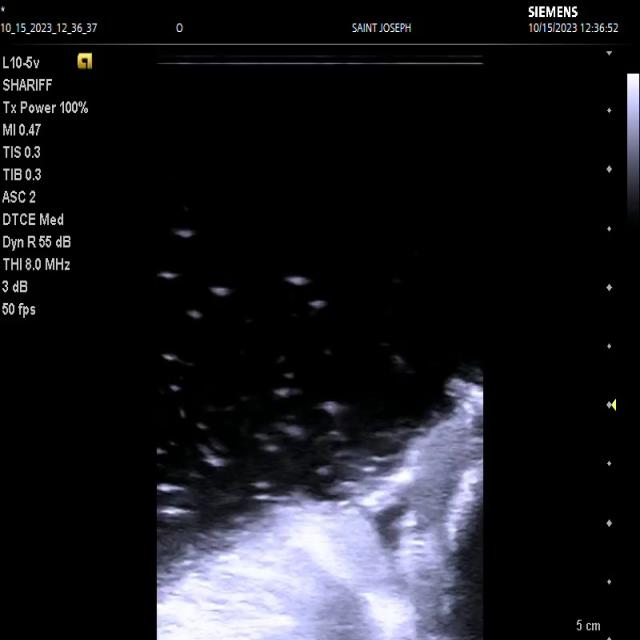tissue: (158, 380, 483, 640)
